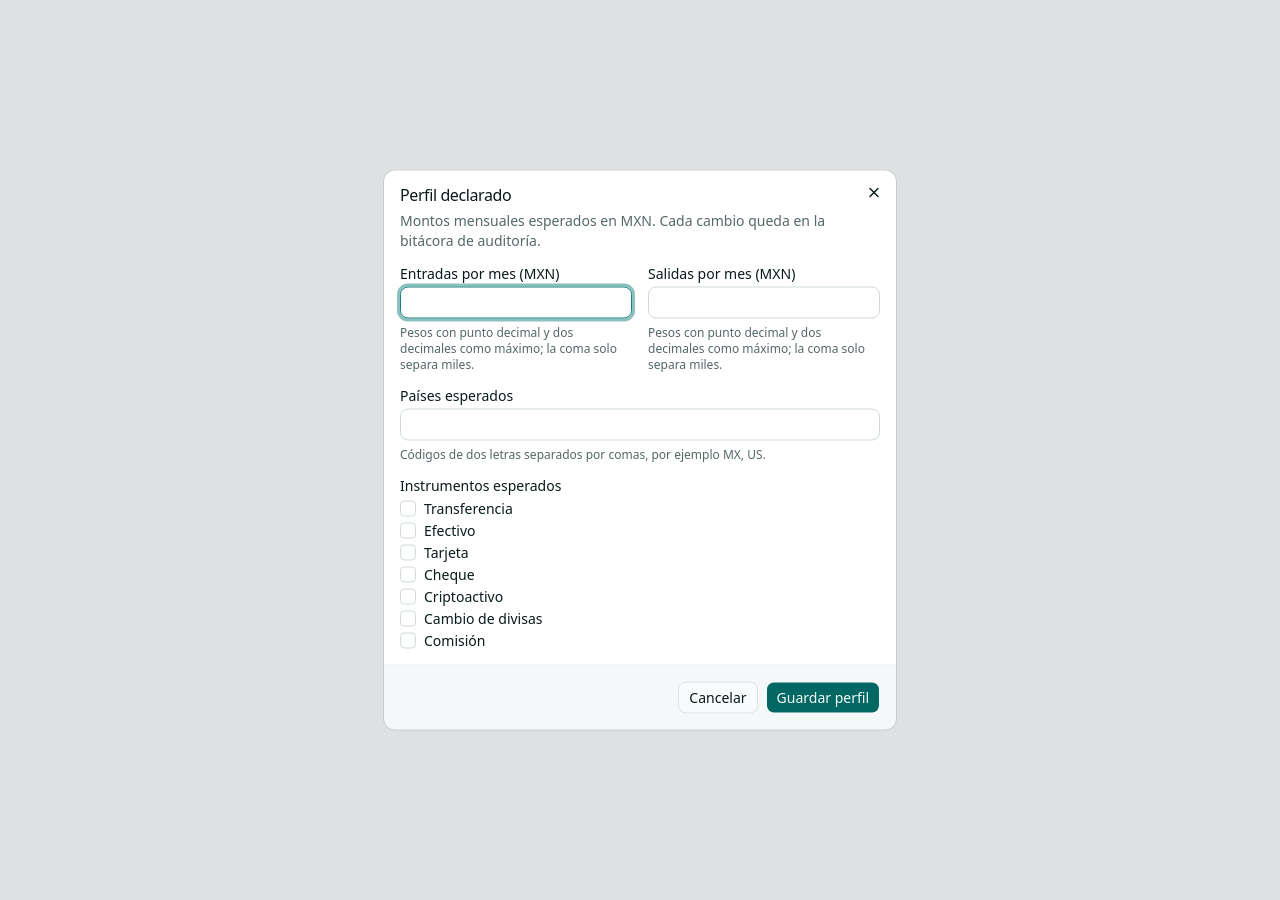
Test: DeclaredProfileDialog › keeps the dialog open with the reason when the API refuses
Type "100" into the field labelled "Entradas por mes (MXN)".
click(516, 302); type("100")  # box [400,286,632,318]
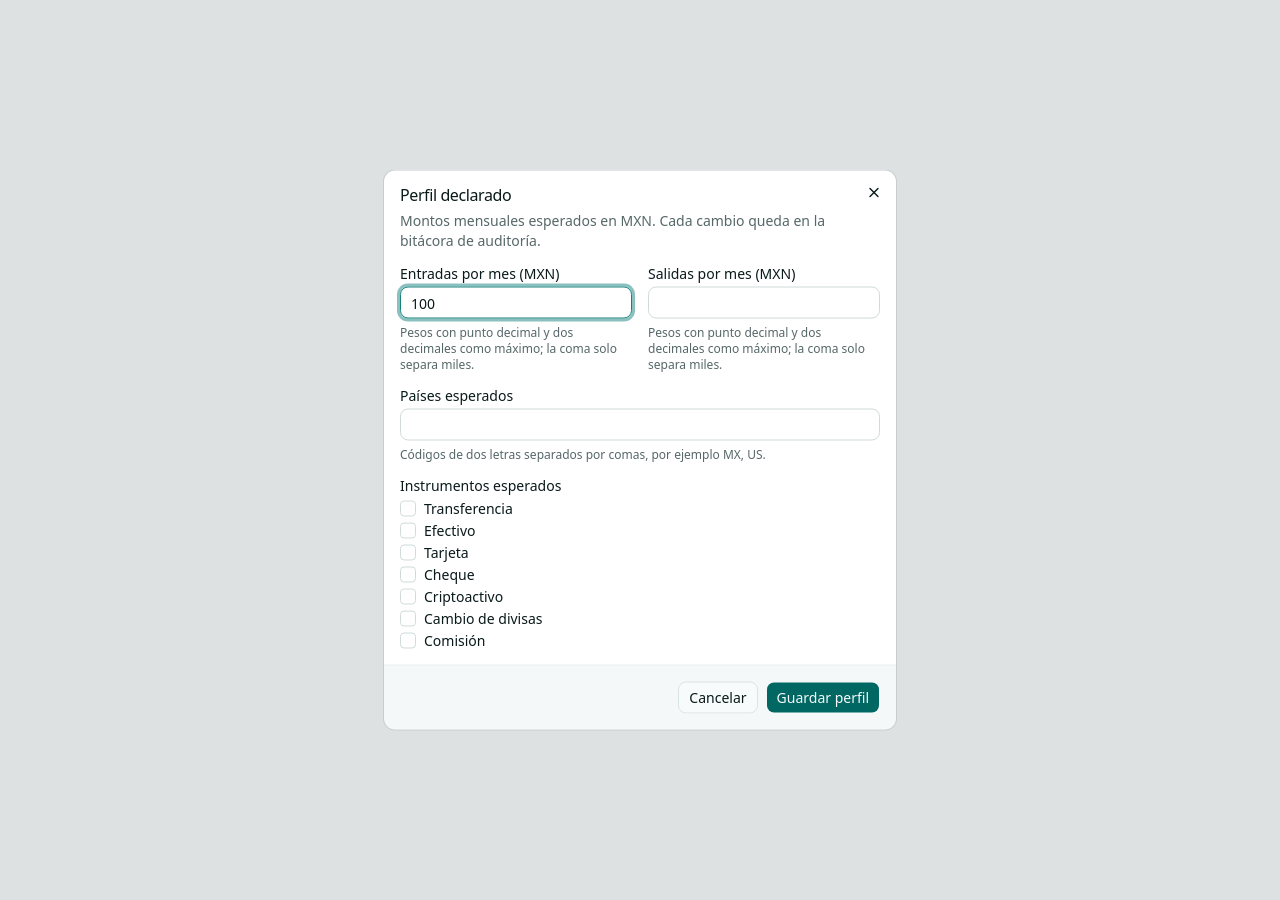
Type "100" into the field labelled "Salidas por mes (MXN)".
click(764, 302); type("100")  # box [648,286,880,318]
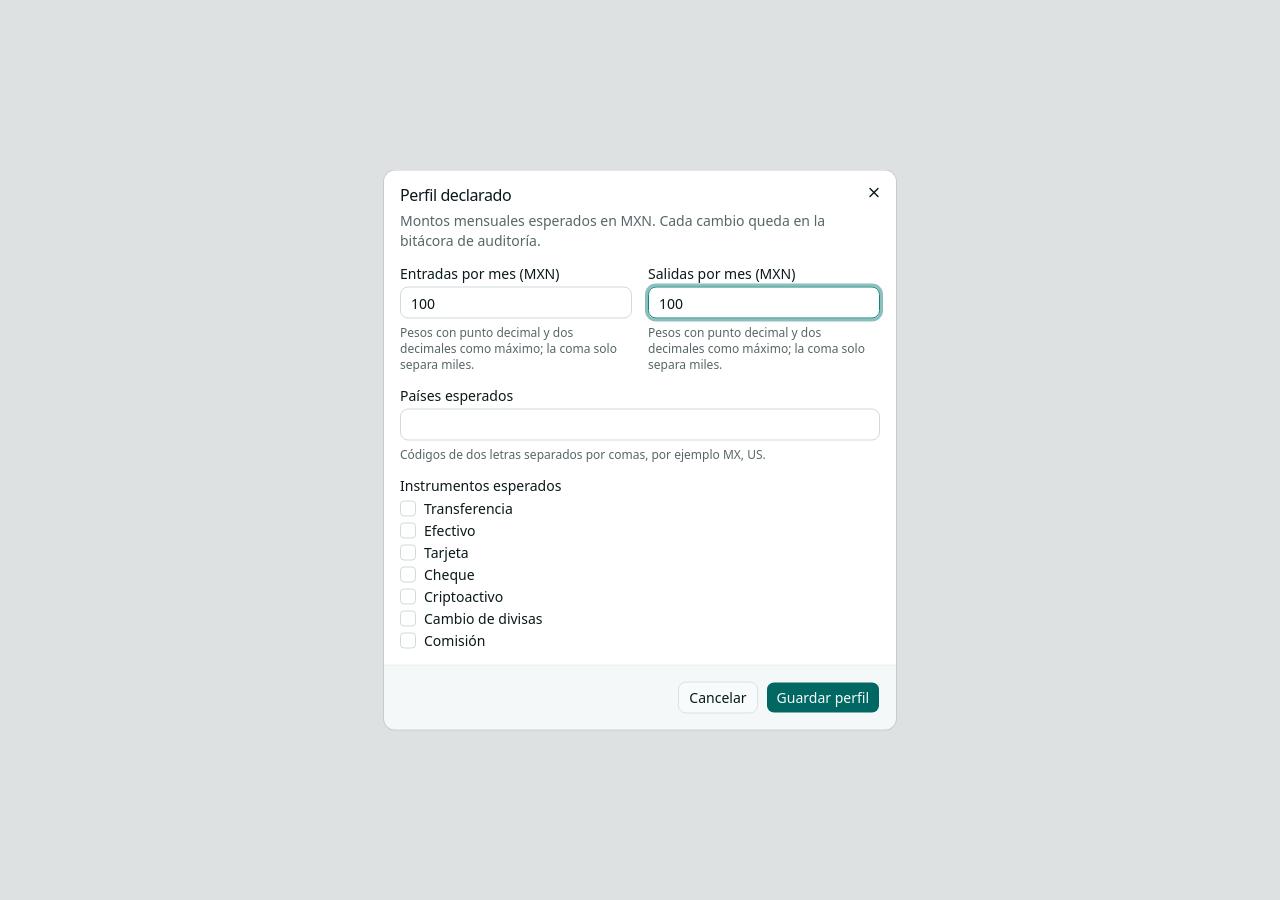
Click the button "Guardar perfil".
click(823, 698)  # box [766,682,880,714]
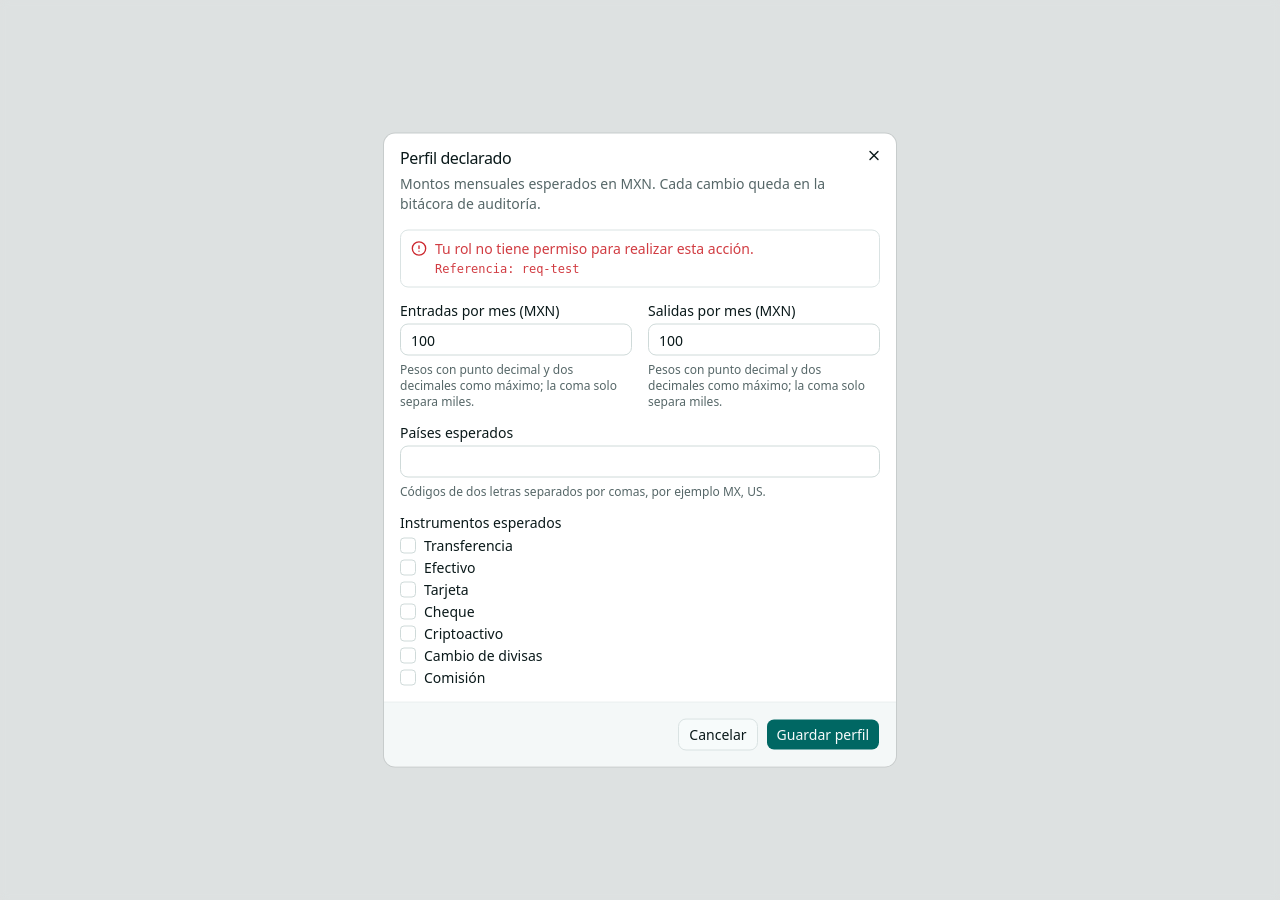
Expected: the text "Tu rol no tiene permiso para realizar esta acción." is shown, [435,238,754,258]
